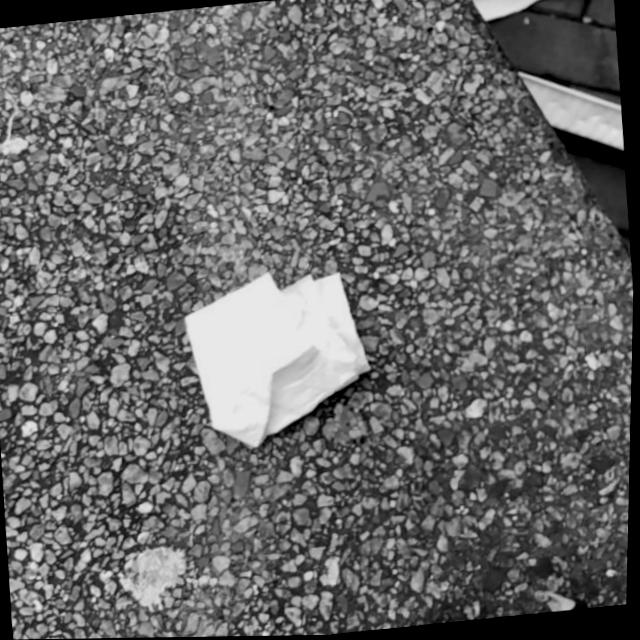Paper: (176, 257, 384, 455), (517, 65, 627, 175)
